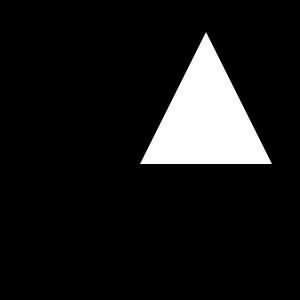triangle: (140, 32, 272, 164)
